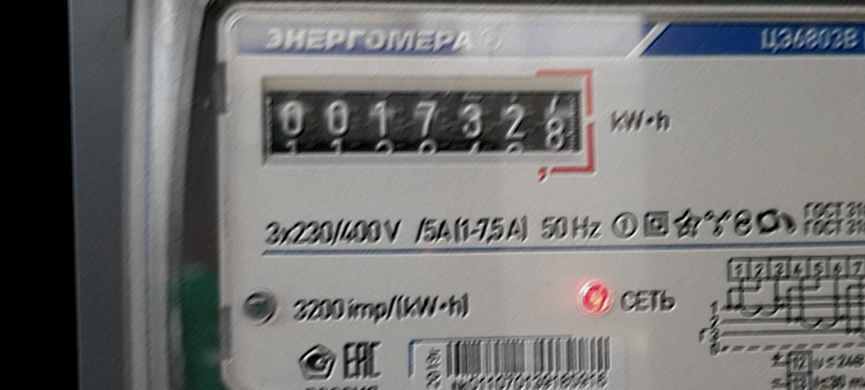0: (279, 98, 306, 138), (327, 98, 351, 136)
1: (372, 98, 391, 138)
2: (503, 103, 527, 140)
3: (462, 102, 485, 138)
7: (416, 98, 439, 138)
8: (545, 114, 565, 150)
screen: (250, 65, 607, 190)
